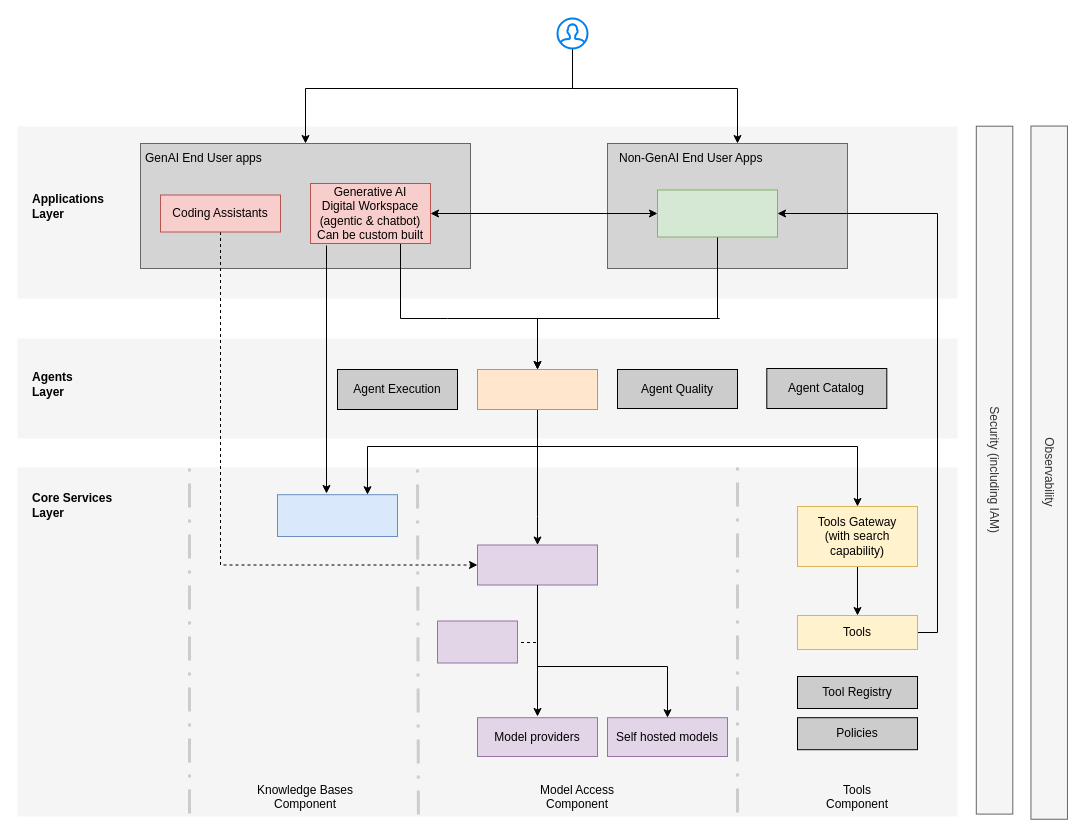
The diagram is 1085 pixels wide and 837 high, and some of its shapes have lost their labels. Here are the shapes that lost their labels. From the top down, the centre of each, then its label:
point 572,33: User
point 717,213: Enterprise applications
point 537,389: Agents
point 337,515: Knowledge Bases
point 537,564: LLM Gateway (optional)
point 477,641: Guardrails
